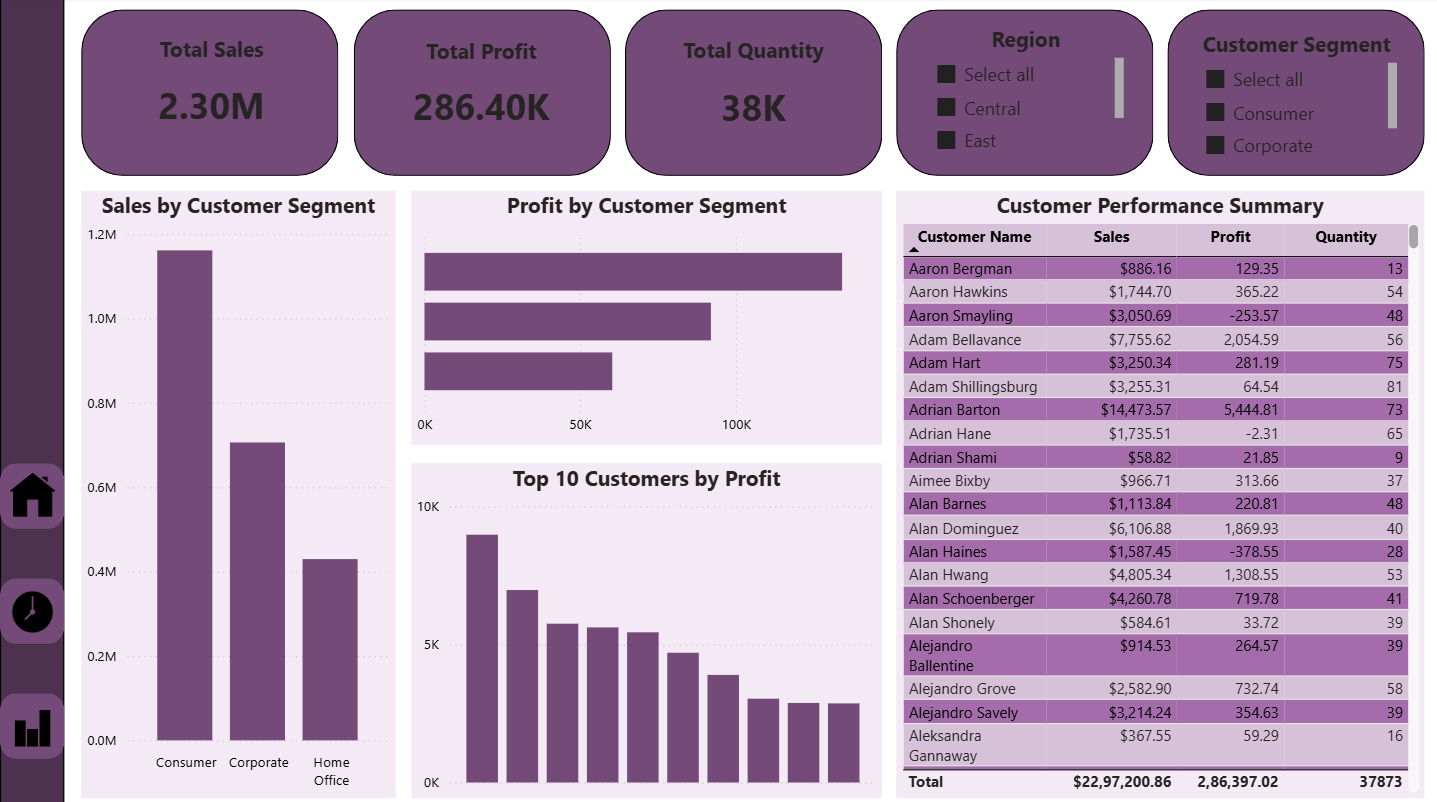

This screenshot's page, from the dashboard's own definition file:
{"tool":"powerbi","page":{"name":"Customer & Segment Performance Analysis","canvas":[1280,720],"ordinal":3},"visuals":[{"type":"shape","box":[0,0,57.2,720.3],"z":0,"group":"g4"},{"type":"clusteredColumnChart","title":"Sales by Customer Segment","fields":{"Category":["Orders.Segment"],"Y":["Orders.Total Sales"]},"box":[72.7,172.9,279.9,540.7],"z":0},{"type":"shape","box":[0,619.5,57.2,58.5],"z":0,"group":"g3"},{"type":"clusteredBarChart","title":"Profit by Customer Segment","fields":{"Category":["Orders.Segment"],"Y":["Orders.Total Profit"]},"box":[366,172.9,419.2,226.4],"z":1000},{"type":"group","id":"g1","title":"Group 1","box":[0,415.5,57.2,58.5],"z":1000,"group":"g4"},{"type":"image","box":[7.5,631.9,42.3,34.8],"z":1000,"group":"g3"},{"type":"clusteredColumnChart","title":"Top 10 Customers by Profit","fields":{"Category":["Orders.Customer Name"],"Y":["Orders.Total Profit"]},"box":[365.7,415.5,419.2,298.6],"z":2000},{"type":"group","id":"g2","title":"Group 1","box":[0,517.5,57.2,58.5],"z":2000,"group":"g4"},{"type":"tableEx","title":"Customer Performance Summary","fields":{"Values":["Orders.Customer Name","Sum(Orders.Sales)","Sum(Orders.Profit)","Sum(Orders.Quantity)"]},"box":[798.6,172.9,470.2,541.1],"z":3000},{"type":"group","id":"g3","title":"Group 2","box":[0,619.5,57.2,58.5],"z":3000,"group":"g4"},{"type":"shape","box":[72.7,11,229.2,148.2],"z":4000},{"type":"shape","box":[314.6,11,229.2,148.2],"z":5000},{"type":"shape","box":[556.4,11,229.2,148.2],"z":6000},{"type":"shape","box":[798.3,11,229.2,148.2],"z":7000},{"type":"shape","box":[1040.1,11,229.2,148.2],"z":8000},{"type":"card","title":"Total Sales","fields":{"Values":["Orders.Total Sales"]},"box":[91.9,32.9,192.1,102.9],"z":9000},{"type":"card","title":"Total Profit","fields":{"Values":["Orders.Total Profit"]},"box":[330.7,35.7,196.2,100.2],"z":10000},{"type":"card","title":"Total Quantity","fields":{"Values":["Orders.Total Quantity"]},"box":[572.2,34.3,197.6,102.9],"z":11000},{"type":"slicer","title":"Region","fields":{"Values":["Orders.Region"]},"box":[821,24.9,184.1,123.2],"z":12000},{"type":"shape","box":[0,415.5,57.2,58.5],"z":12000,"group":"g5"},{"type":"shape","box":[0,517.5,57.2,58.5],"z":12000,"group":"g2"},{"type":"slicer","title":"Customer Segment","fields":{"Values":["Orders.Segment"]},"box":[1061.1,28.6,187.8,116.9],"z":13000},{"type":"image","box":[7.5,527.5,42.3,39.8],"z":14001,"group":"g2"},{"type":"group","id":"g4","title":"Group 4","box":[0,0,57.2,720.3],"z":16002},{"type":"group","id":"g5","title":"Group 3","box":[0,415.5,57.2,58.5],"z":18000,"group":"g1"},{"type":"image","box":[6.2,423,44.8,42.3],"z":19000,"group":"g1"}]}

Visuals, with their boxes in screenshot pixels (x1, y1, x2, y2), scaled from the page's 1280x720 canvas onto the 1437x802 screenshot:
shape: [x1=0, y1=0, x2=64, y2=801]
"Sales by Customer Segment" clusteredColumnChart: [x1=82, y1=193, x2=396, y2=795]
shape: [x1=0, y1=690, x2=64, y2=755]
"Profit by Customer Segment" clusteredBarChart: [x1=411, y1=193, x2=882, y2=445]
"Group 1" group: [x1=0, y1=463, x2=64, y2=528]
image: [x1=8, y1=704, x2=56, y2=743]
"Top 10 Customers by Profit" clusteredColumnChart: [x1=411, y1=463, x2=881, y2=795]
"Group 1" group: [x1=0, y1=576, x2=64, y2=642]
"Customer Performance Summary" tableEx: [x1=897, y1=193, x2=1424, y2=795]
"Group 2" group: [x1=0, y1=690, x2=64, y2=755]
shape: [x1=82, y1=12, x2=339, y2=177]
shape: [x1=353, y1=12, x2=611, y2=177]
shape: [x1=625, y1=12, x2=882, y2=177]
shape: [x1=896, y1=12, x2=1154, y2=177]
shape: [x1=1168, y1=12, x2=1425, y2=177]
"Total Sales" card: [x1=103, y1=37, x2=319, y2=151]
"Total Profit" card: [x1=371, y1=40, x2=592, y2=151]
"Total Quantity" card: [x1=642, y1=38, x2=864, y2=153]
"Region" slicer: [x1=922, y1=28, x2=1128, y2=165]
shape: [x1=0, y1=463, x2=64, y2=528]
shape: [x1=0, y1=576, x2=64, y2=642]
"Customer Segment" slicer: [x1=1191, y1=32, x2=1402, y2=162]
image: [x1=8, y1=588, x2=56, y2=632]
"Group 4" group: [x1=0, y1=0, x2=64, y2=801]
"Group 3" group: [x1=0, y1=463, x2=64, y2=528]
image: [x1=7, y1=471, x2=57, y2=518]
